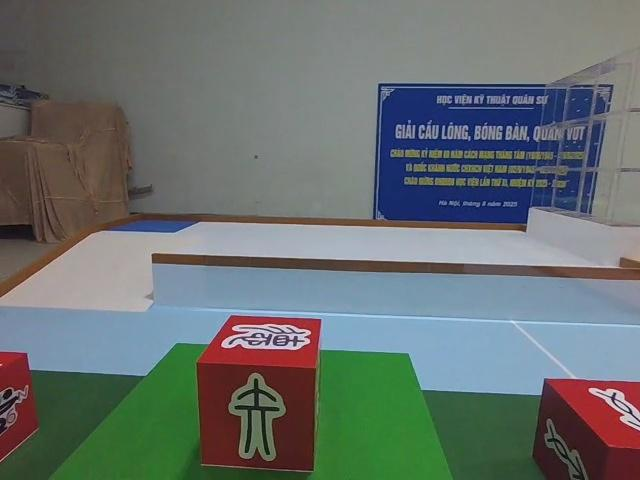R1: (0, 349, 42, 460)
R2 Fake: (196, 314, 322, 472)
R2 Real: (535, 377, 640, 480)
